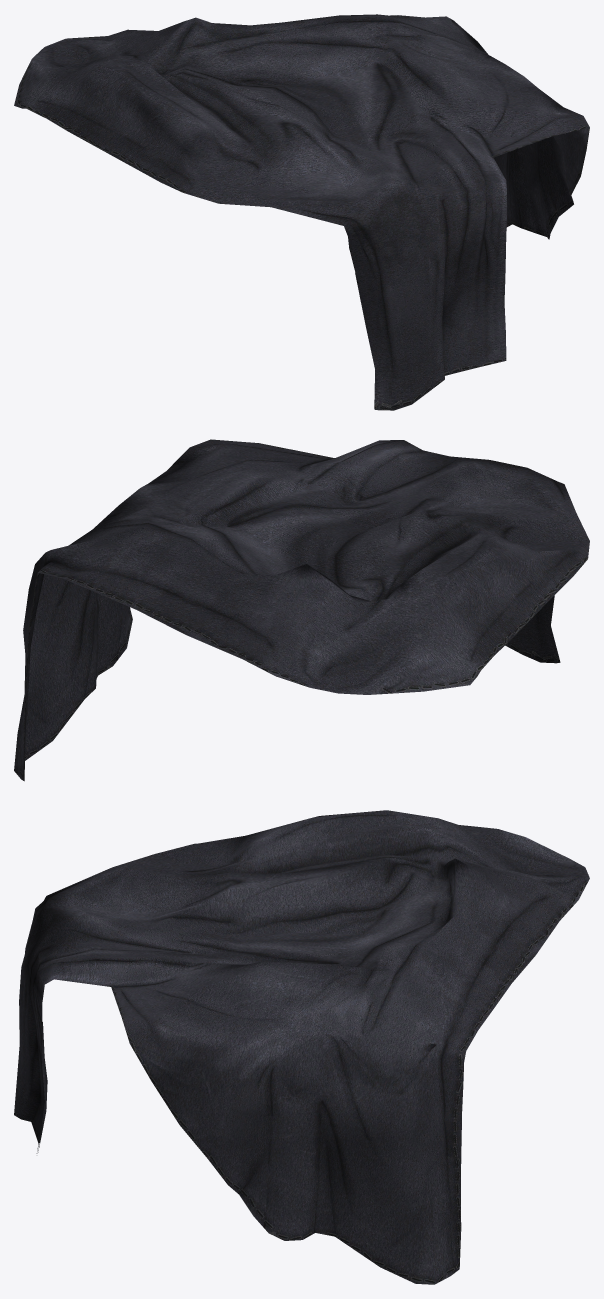
The model's file is bed_sheets_untidy.dae.
3 renders of one model, top to bottom at view 1: azimuth 30°, elevation 25°; view 2: azimuth 150°, elevation 25°; view 3: azimuth 270°, elevation 25°, orthographic. The views are drawn at different scales.
Parts seen in each view (by area): view 1: bed_sheets_undiy; view 2: bed_sheets_undiy; view 3: bed_sheets_undiy.
Boxes of the visible parts, box(x1,y1,x2,y2) form: bed_sheets_undiy: box(14, 14, 589, 410); bed_sheets_undiy: box(14, 439, 589, 781); bed_sheets_undiy: box(14, 810, 589, 1284).
Size of the model in its own units: 105 by 59.51 by 110.
